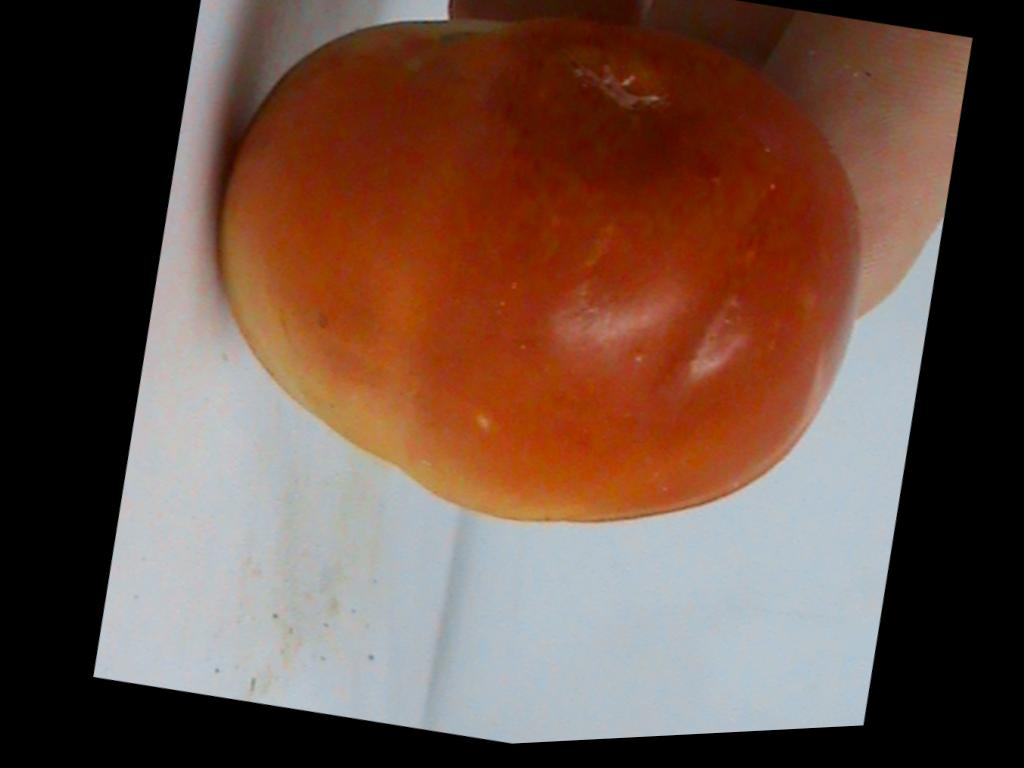bruise_discoloration: (510, 38, 708, 196)
surface_damage: (567, 55, 660, 109)
tomato: (222, 20, 857, 521)
